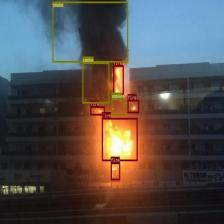fire: (102, 117, 138, 161), (113, 65, 124, 94), (127, 100, 139, 113), (111, 163, 120, 180), (90, 106, 105, 115)
smoke: (52, 1, 128, 62), (82, 62, 109, 103), (111, 98, 125, 116)
